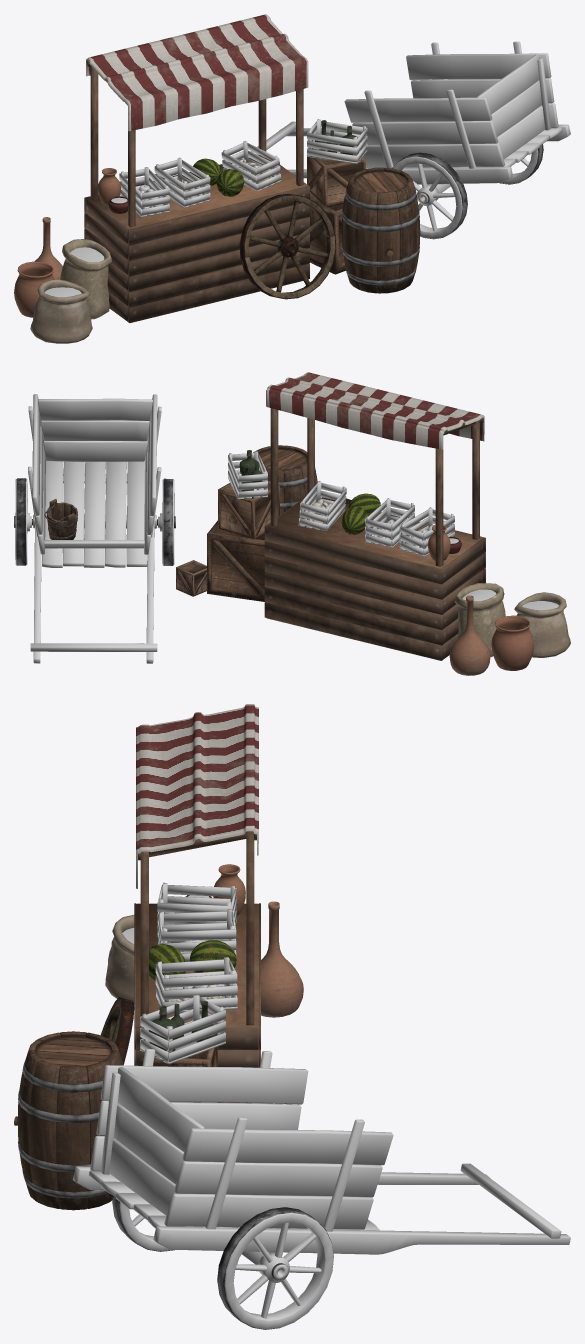
File: Medieval_Props.fbx
3 views of the same model, one above another, from view 1: azimuth 30°, elevation 25°; view 2: azimuth 150°, elevation 25°; view 3: azimuth 270°, elevation 25° (orthographic). The views are drawn at different scales.
Parts seen in each view (by area): view 1: Stall, Handcart, Barrel1, Wheel, Sack1, Sack2, Wooden Crate.002, Box2, Wooden Crate.001, Wooden Crate.003, Wooden Crate, Box3 (+5 smaller); view 2: Stall, Handcart, Box3, Sack1, Box2, Sack2, Barrel1, Pottery3, Pottery4, Wooden Crate.001, Wooden Crate.003, Wooden Crate (+6 smaller); view 3: Handcart, Stall, Barrel1, Wooden Crate.002, Wooden Crate.001, Pottery4, Wooden Crate.003, Wooden Crate, Sack1, Wheel, Melon, Pottery2.
Part boxes in pixels (box(x1,y1,x2,y2)): Stall: box(84, 14, 309, 322); Handcart: box(239, 41, 570, 239); Barrel1: box(341, 167, 420, 293); Wheel: box(239, 194, 336, 299); Sack1: box(30, 279, 92, 343); Sack2: box(60, 239, 111, 319); Wooden Crate.002: box(307, 119, 367, 163); Box2: box(307, 156, 365, 206); Wooden Crate.001: box(221, 141, 281, 191); Wooden Crate.003: box(154, 157, 210, 208); Wooden Crate: box(119, 167, 169, 217); Box3: box(309, 193, 345, 274); Stall: box(264, 372, 485, 660); Handcart: box(14, 394, 175, 663); Box3: box(207, 515, 280, 601); Sack1: box(514, 592, 570, 657); Box2: box(218, 482, 279, 538); Sack2: box(454, 583, 505, 657); Barrel1: box(253, 445, 317, 514); Pottery3: box(491, 615, 534, 670); Pottery4: box(449, 595, 490, 675); Wooden Crate.001: box(298, 481, 346, 530); Wooden Crate.003: box(365, 498, 414, 547); Wooden Crate: box(399, 507, 454, 556); Handcart: box(72, 1049, 570, 1329); Stall: box(134, 704, 260, 1103); Barrel1: box(14, 1031, 123, 1210); Wooden Crate.002: box(140, 994, 225, 1064); Wooden Crate.001: box(155, 957, 237, 1012); Pottery4: box(261, 901, 303, 1017); Wooden Crate.003: box(158, 909, 236, 961); Wooden Crate: box(157, 882, 236, 936); Sack1: box(105, 915, 134, 1005); Wheel: box(100, 997, 134, 1064); Melon: box(190, 940, 236, 972); Pottery2: box(213, 864, 245, 915).
Size of the model in its own units: 1289 by 537 by 814.
